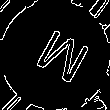M_SW: (22, 22, 88, 89)
